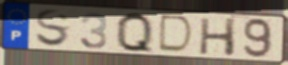3: (79, 11, 110, 50)
9: (241, 17, 275, 60)
D: (156, 14, 197, 55)
H: (198, 17, 239, 58)
Q: (114, 10, 156, 55)
S: (34, 8, 71, 49)
